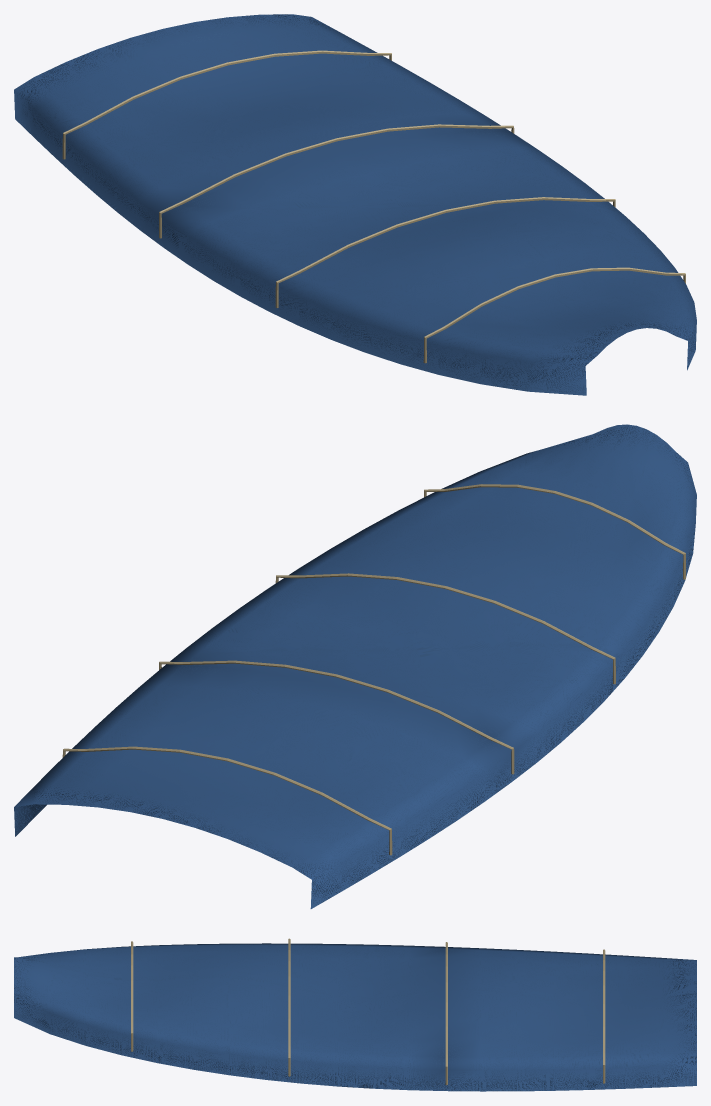
The model's file is boat_cover_tarp.glb.
3 renders of one model, top to bottom at view 1: azimuth 30°, elevation 25°; view 2: azimuth 150°, elevation 25°; view 3: azimuth 270°, elevation 25°, orthographic. The views are drawn at different scales.
Visible parts, largest first — view 1: boat_cover_tarp_LOD0; view 2: boat_cover_tarp_LOD0; view 3: boat_cover_tarp_LOD0.
Part boxes in pixels (x1,y1,x2,y2): boat_cover_tarp_LOD0: [14, 14, 696, 395]; boat_cover_tarp_LOD0: [14, 424, 696, 908]; boat_cover_tarp_LOD0: [14, 938, 696, 1091].
Size of what is drawn, in the model's own units: 1.49 by 0.4032 by 3.44.
